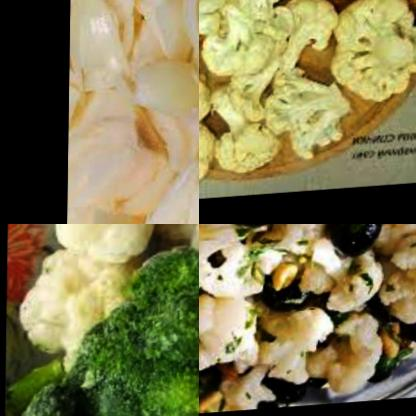broccoli: (70, 253, 199, 416), (0, 335, 199, 416)
cayliflower: (199, 0, 416, 195), (22, 224, 199, 362), (199, 296, 386, 405), (266, 224, 372, 303), (367, 224, 416, 341)
onion: (68, 0, 199, 224)
